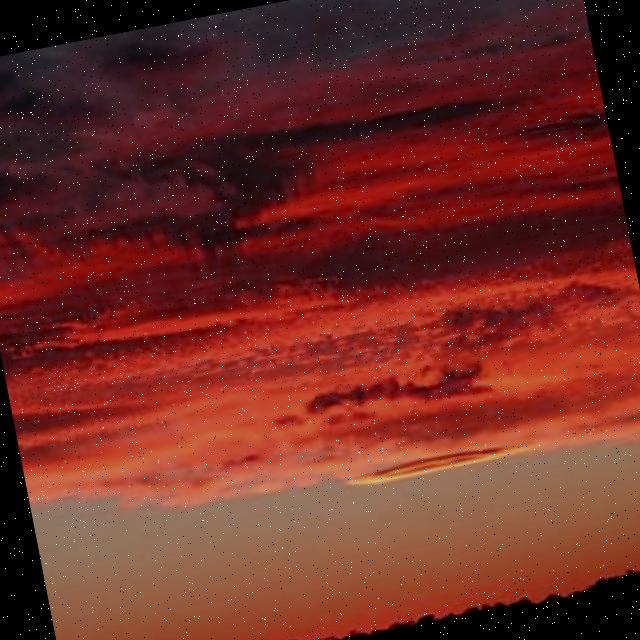As: (1, 1, 640, 599)
